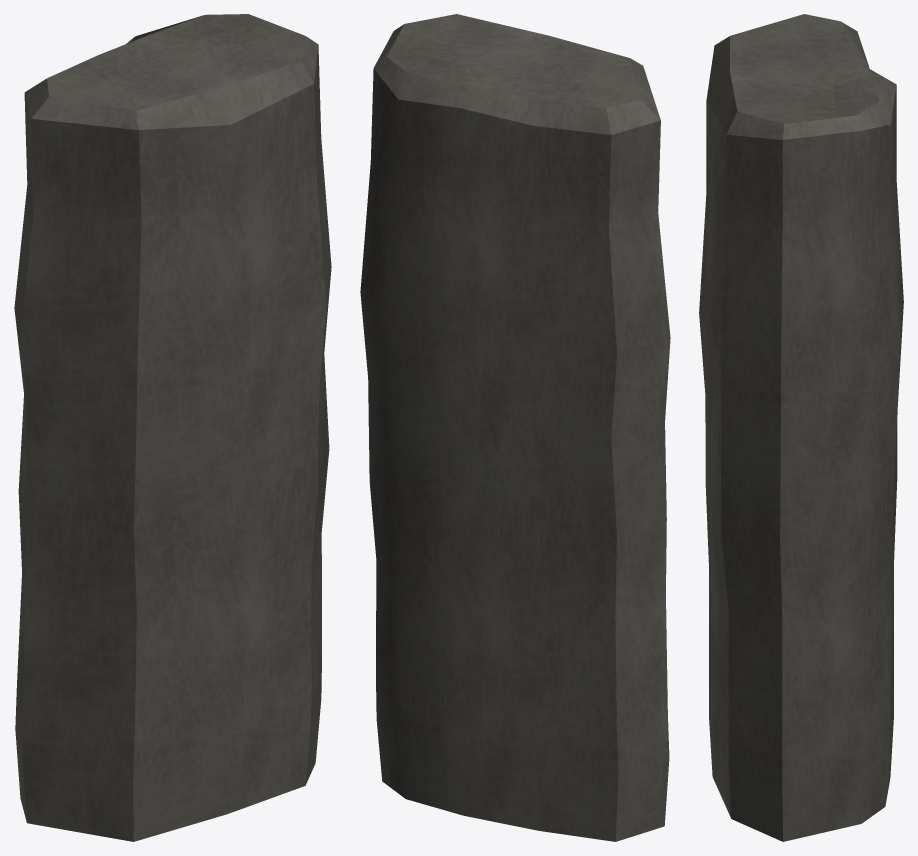
The model's file is ZachMesaRock10.fbx.
The picture shows the model from 3 angles, left to right: view 1: azimuth 30°, elevation 25°; view 2: azimuth 150°, elevation 25°; view 3: azimuth 270°, elevation 25°; orthographic projection. The views are drawn at different scales.
Parts seen in each view (by area): view 1: ZachMesaRock10; view 2: ZachMesaRock10; view 3: ZachMesaRock10.
Boxes of the visible parts, x1,y1,x2,y2 form: ZachMesaRock10: (14,14,331,841); ZachMesaRock10: (360,14,670,841); ZachMesaRock10: (699,14,903,841).
Bounding box in the file's own units: 13.27 × 30.97 × 8.04.
